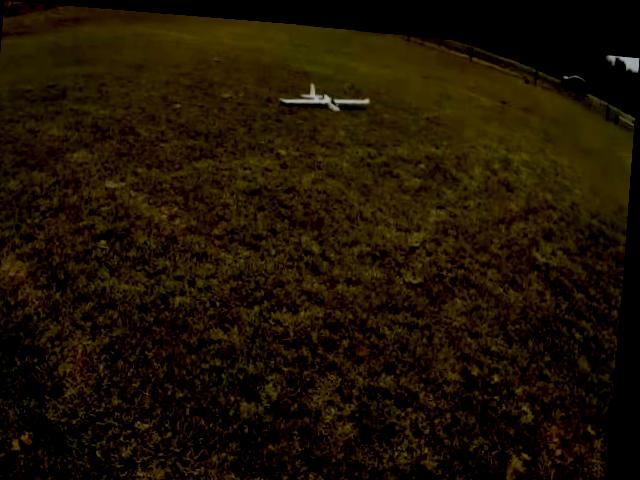uav: (275, 64, 377, 118)
